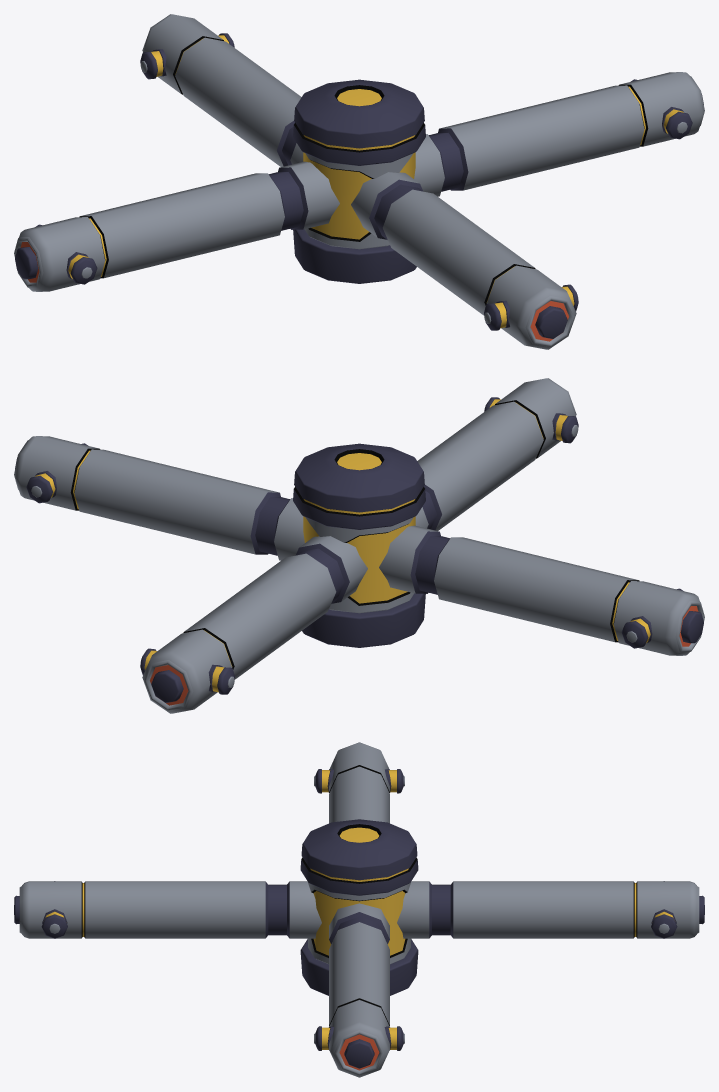
File: Level20_Objects.fbx
The picture shows the model from 3 angles, top to bottom: view 1: azimuth 30°, elevation 25°; view 2: azimuth 150°, elevation 25°; view 3: azimuth 270°, elevation 25°; orthographic projection. The views are drawn at different scales.
Visible parts, largest first — view 1: pCylinder14 (×4), pCylinder13, pCylinder15 (×4); view 2: pCylinder14 (×4), pCylinder13, pCylinder15 (×4); view 3: pCylinder14 (×4), pCylinder13, pCylinder15 (×2).
Boxes of the visible parts, bbox=[...] form: pCylinder14 (×4): bbox=[14, 14, 704, 349]; pCylinder13: bbox=[293, 79, 425, 283]; pCylinder15 (×4): bbox=[66, 49, 692, 330]; pCylinder14 (×4): bbox=[14, 378, 704, 713]; pCylinder13: bbox=[293, 443, 425, 647]; pCylinder15 (×4): bbox=[26, 413, 652, 694]; pCylinder14 (×4): bbox=[14, 742, 704, 1077]; pCylinder13: bbox=[300, 819, 418, 995]; pCylinder15 (×2): bbox=[41, 909, 677, 938].
Bounding box in the file's own units: 142 × 33.22 × 142.
